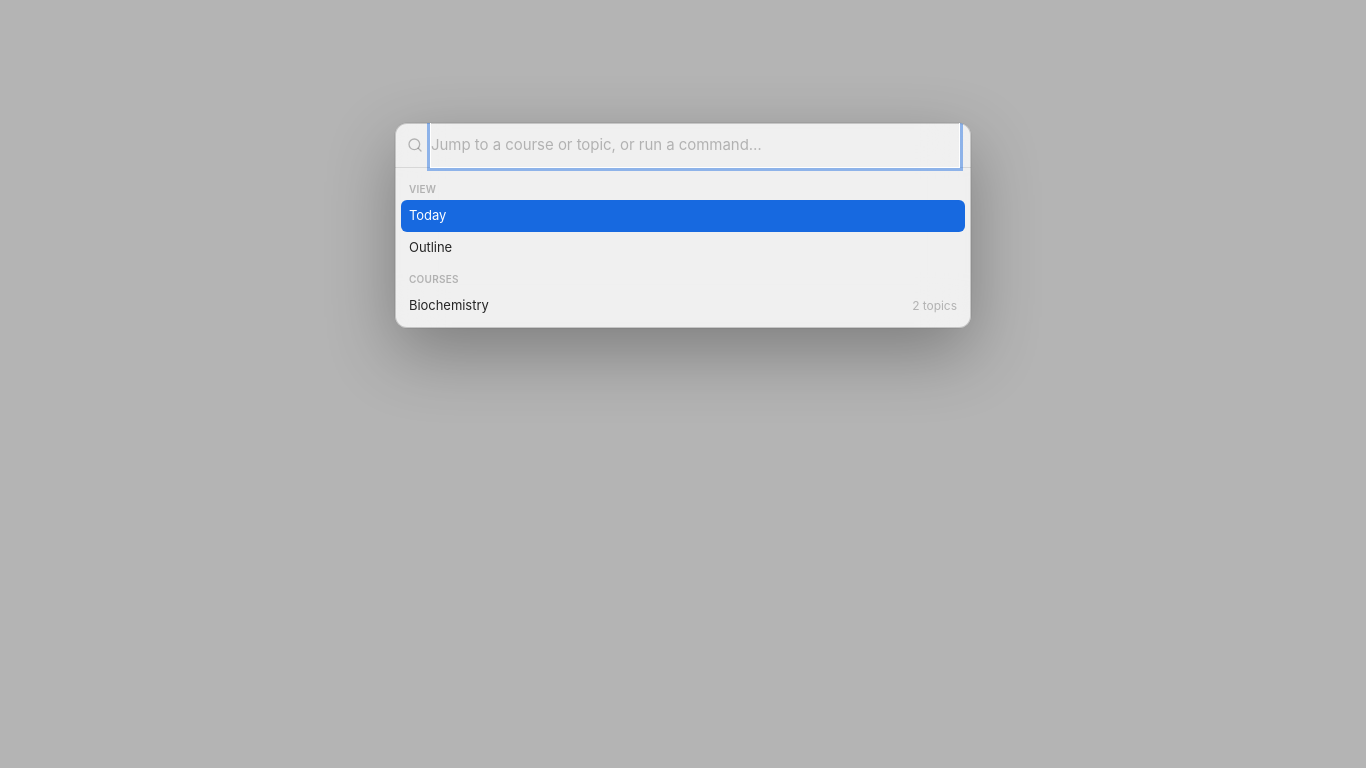
Test case: CommandPalette › says so rather than showing an empty list when nothing matches
This screenshot has width=1366, height=768.
Type "zzzz" into the dropdown at [695, 145], box [431,123,959,167]
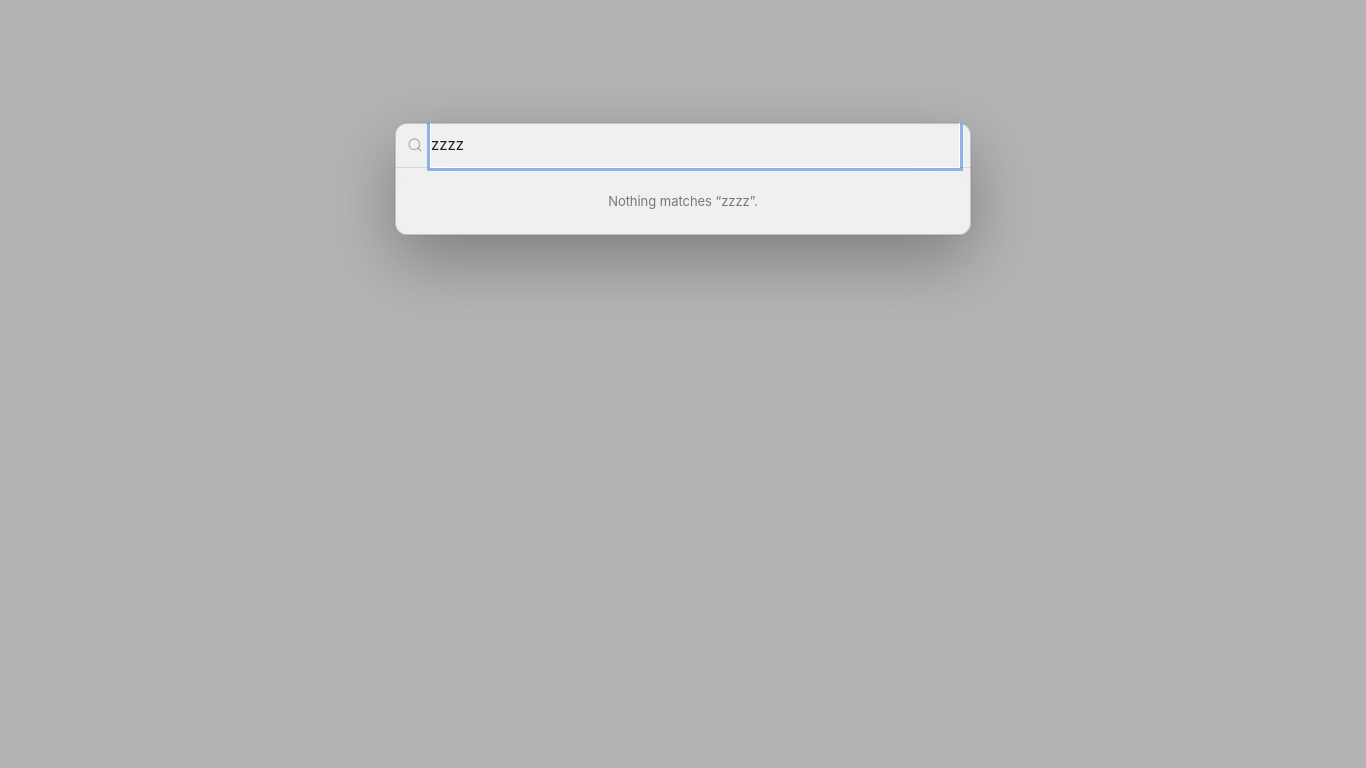
Result: no options are shown
Result: the message shows "Nothing matches" at [608,193,721,209]
